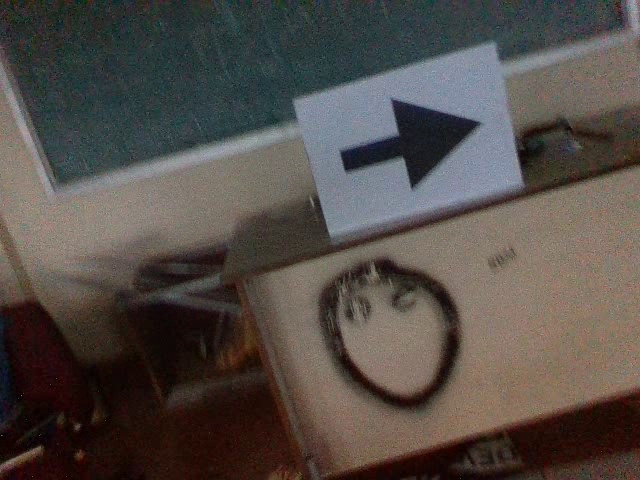Right: (333, 96, 485, 192)
